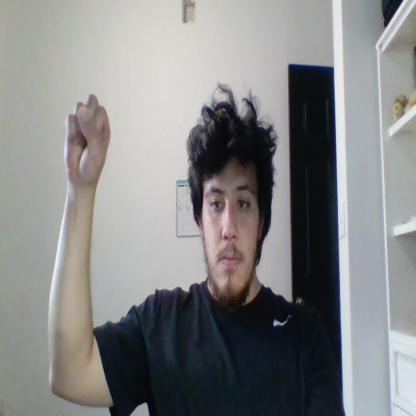S: (66, 93, 110, 181)
